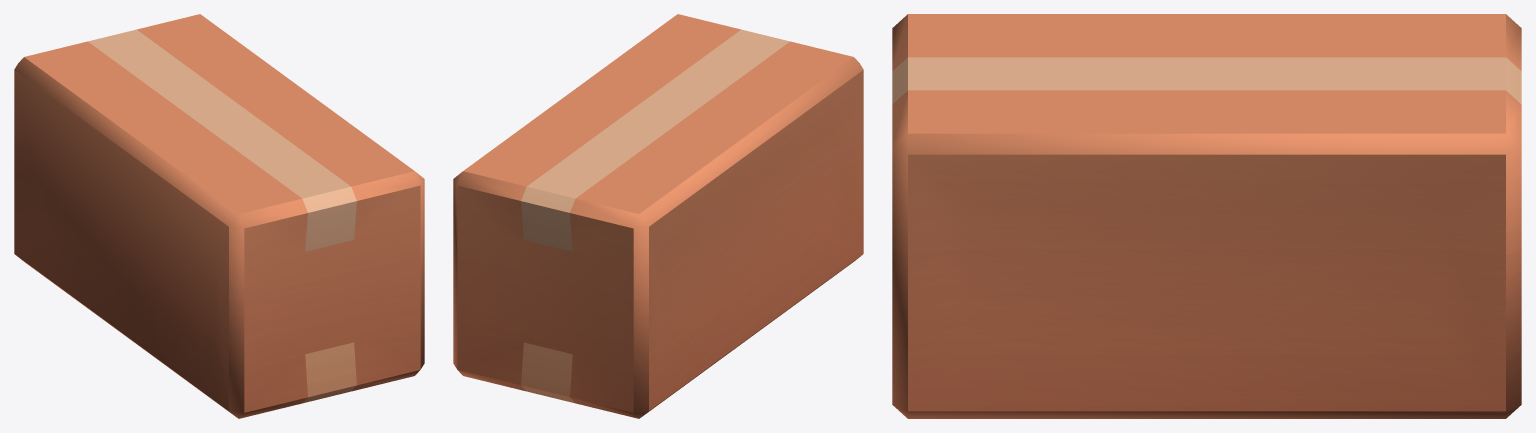
Rendered from s-box-large.glb.
The picture shows the model from 3 angles, left to right: view 1: azimuth 30°, elevation 25°; view 2: azimuth 150°, elevation 25°; view 3: azimuth 270°, elevation 25°; orthographic projection. The views are drawn at different scales.
Visible parts, largest first — view 1: box-large; view 2: box-large; view 3: box-large.
Boxes of the visible parts, bbox=[...] form: box-large: bbox=[14, 14, 424, 418]; box-large: bbox=[453, 14, 863, 418]; box-large: bbox=[892, 14, 1521, 418].
Size of the model in its own units: 0.25 by 0.25 by 0.5.
Materials: 1 (1 with a texture image).
